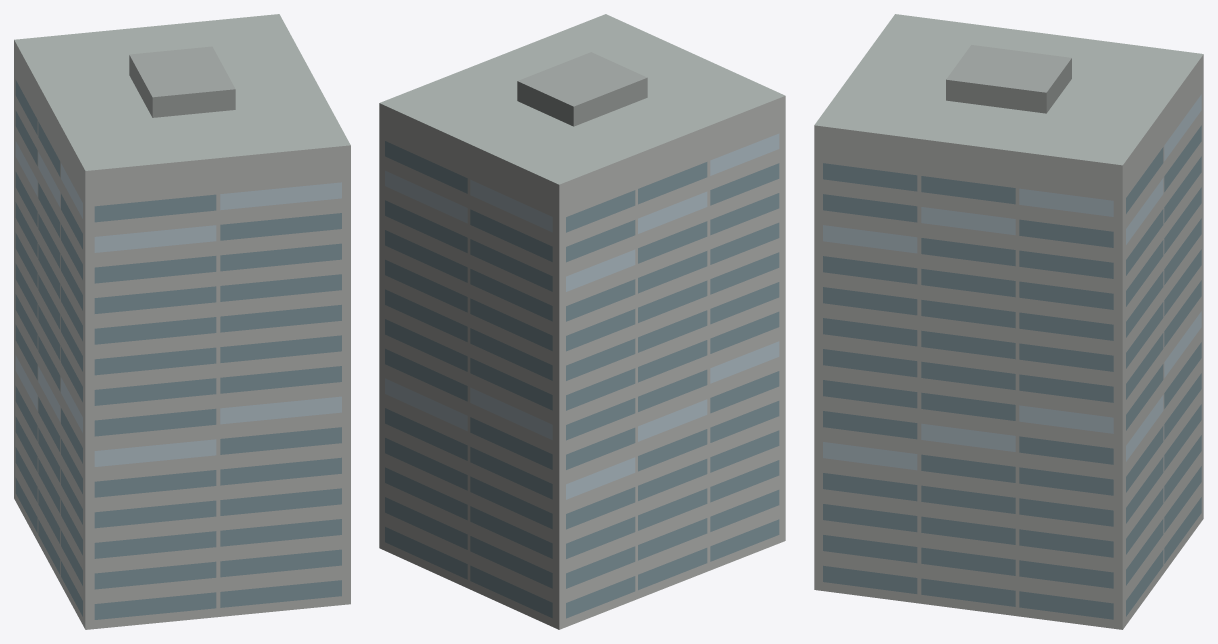
File: fallback-olympic-park-foreon-301.glb
3 renders of one model, left to right at view 1: azimuth 30°, elevation 25°; view 2: azimuth 150°, elevation 25°; view 3: azimuth 270°, elevation 25°, orthographic. The views are drawn at different scales.
Visible parts, largest first — view 1: fallback-olympic-park-foreon-301; view 2: fallback-olympic-park-foreon-301; view 3: fallback-olympic-park-foreon-301.
Boxes of the visible parts, left/top/right/bottom form: fallback-olympic-park-foreon-301: left=14, top=14, right=350, bottom=629; fallback-olympic-park-foreon-301: left=379, top=14, right=785, bottom=629; fallback-olympic-park-foreon-301: left=814, top=14, right=1203, bottom=629.
Bounding box in the file's own units: 31.97 × 47.81 × 34.77.
